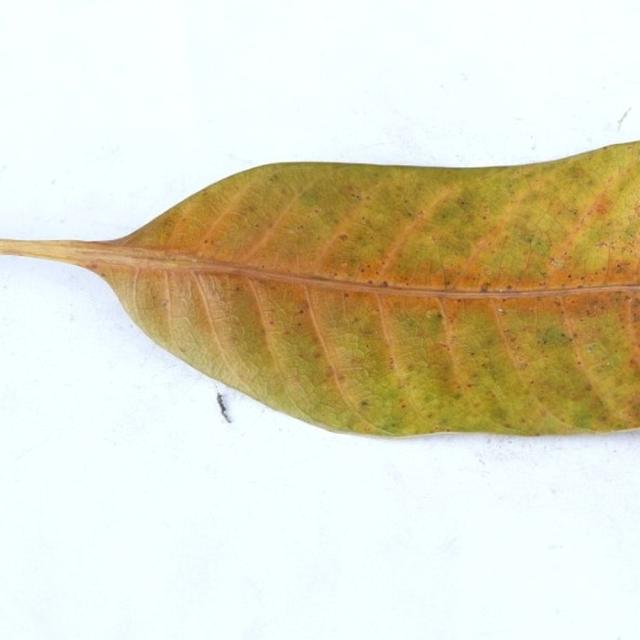Mango: (0, 141, 639, 436)
Powdery_Mildew: (490, 297, 540, 388), (557, 288, 635, 343), (523, 398, 587, 432), (257, 294, 306, 336), (196, 203, 251, 237), (430, 295, 453, 364), (474, 261, 522, 286), (554, 295, 578, 342), (602, 241, 626, 285), (520, 233, 542, 279), (276, 219, 316, 241), (624, 290, 636, 361), (166, 282, 198, 308), (540, 325, 568, 346), (353, 395, 380, 416), (340, 364, 371, 381), (356, 390, 382, 409), (332, 228, 355, 247), (617, 224, 640, 243), (439, 266, 457, 288), (395, 202, 417, 219), (370, 278, 404, 288), (346, 185, 366, 200), (604, 246, 613, 278), (222, 310, 241, 325), (347, 345, 367, 359), (340, 295, 350, 321), (308, 350, 327, 361), (425, 308, 441, 319), (549, 257, 564, 268), (583, 342, 599, 352), (595, 240, 611, 249), (526, 235, 536, 245), (299, 304, 309, 314), (552, 299, 562, 308), (160, 299, 168, 307), (340, 261, 349, 268), (381, 280, 390, 287), (360, 400, 369, 407), (287, 228, 295, 235), (389, 358, 395, 367), (192, 257, 200, 263), (575, 284, 584, 289), (367, 279, 374, 285), (466, 383, 474, 388), (444, 427, 452, 432)
